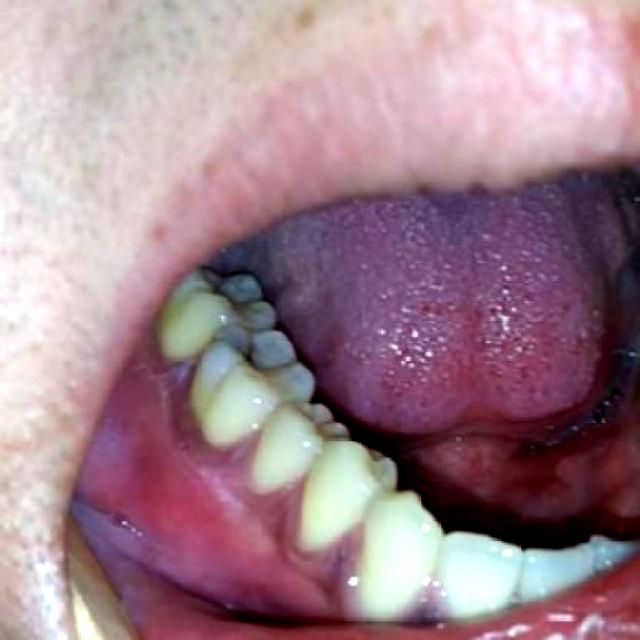Plaque: (208, 332, 298, 372), (205, 276, 266, 321)
